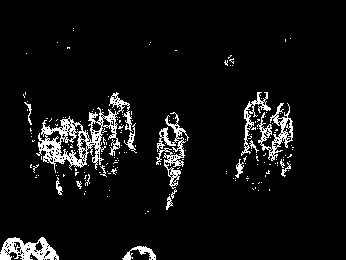person: (153, 110, 192, 213), (235, 89, 269, 176), (106, 90, 138, 177), (35, 115, 67, 196), (261, 100, 295, 176), (61, 116, 92, 191), (87, 106, 111, 177)
